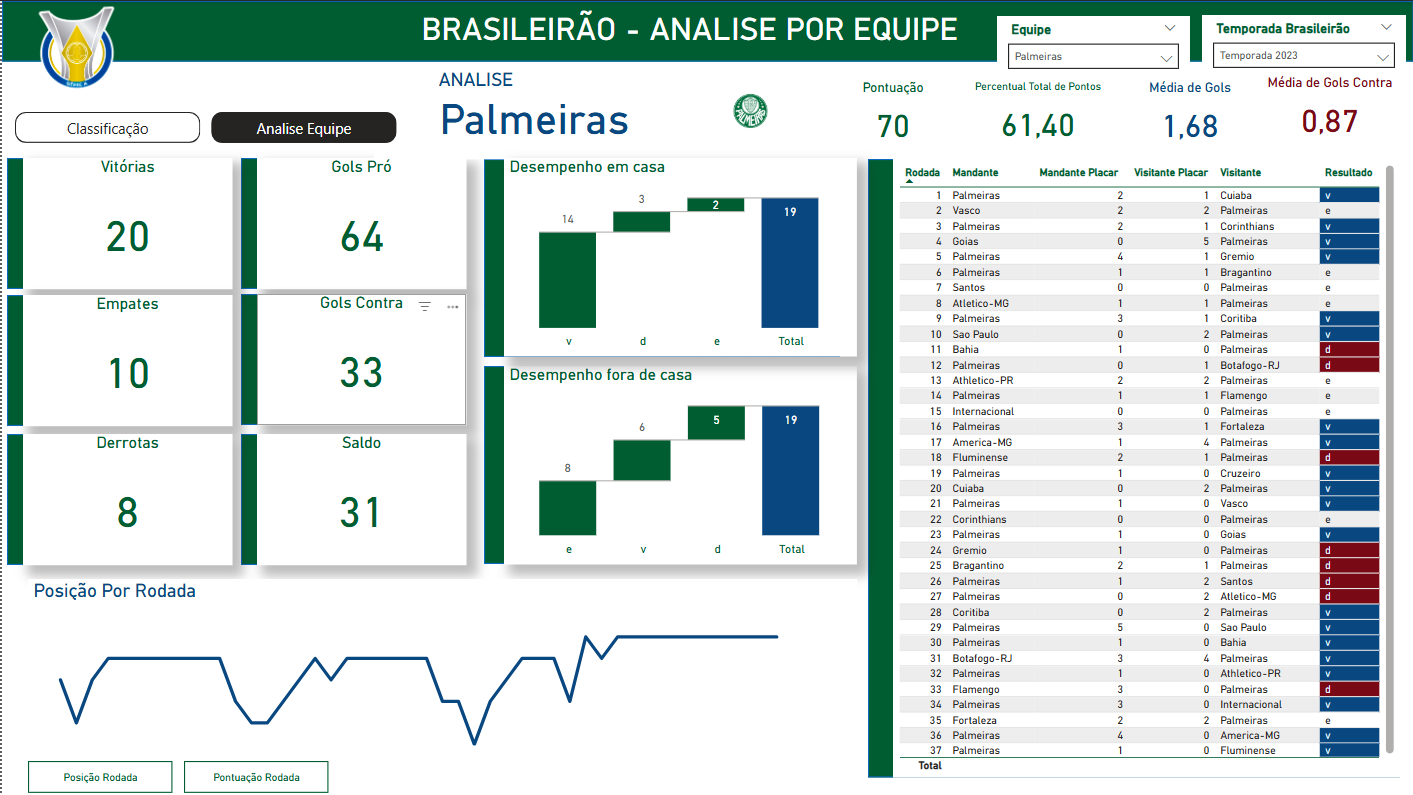

This screenshot's page, from the dashboard's own definition file:
{"tool":"powerbi","page":{"name":"Analise Equipe","canvas":[1280,720],"ordinal":1},"visuals":[{"type":"shape","box":[0,0,1280.4,55.3],"z":0},{"type":"image","box":[0,0,135.1,86.1],"z":1000},{"type":"shape","box":[4.5,142.5,204,118.8],"z":2000},{"type":"shape","box":[4.5,266.7,204,118.8],"z":3000},{"type":"shape","box":[4.5,392.7,204,118.8],"z":4000},{"type":"shape","box":[216.7,142.5,204,118.8],"z":5000},{"type":"shape","box":[216.7,265.8,204,118.8],"z":6000},{"type":"shape","box":[216.7,392.7,204,118.8],"z":7000},{"type":"card","title":"Gols Pró","fields":{"Values":["Medidas.GolsProEquipe"]},"box":[231.2,142.5,189.5,118.8],"z":8000},{"type":"card","title":"Gols Contra","fields":{"Values":["Medidas.GolsContraEquipe"]},"box":[231.2,265.8,189.5,118.8],"z":9000},{"type":"card","title":"Saldo","fields":{"Values":["Medidas.SaldoEquipe"]},"box":[231.2,392.7,189.5,118.8],"z":10000},{"type":"card","title":"Vitórias","fields":{"Values":["Medidas.VitoriasEquipe"]},"box":[19,142.5,189.5,118.8],"z":11000},{"type":"card","title":"Empates","fields":{"Values":["Medidas.EmpatesEquipe"]},"box":[19,266.7,189.5,118.8],"z":12000},{"type":"card","title":"Derrotas","fields":{"Values":["Medidas.DerrotasEquipe"]},"box":[19,392.7,189.5,118.8],"z":13000},{"type":"shape","box":[785.3,143.3,482.4,561.3],"z":14000},{"type":"tableEx","fields":{"Values":["PartidasEquipe.Rodada","NovaTabela.Mandante","Sum(NovaTabela.Mandante_Placar)","Sum(NovaTabela.Visitante_Placar)","NovaTabela.Visitante","NovaTabela.Resultado"]},"box":[808,143.3,459.7,561.3],"z":15000},{"type":"textbox","box":[375.4,3.6,526.9,51.7],"z":16000},{"type":"shape","box":[437.1,143.3,322.8,179.5],"z":17000},{"type":"shape","box":[437.1,331,322.8,179.5],"z":18000},{"type":"waterfallChart","title":"Desempenho fora de casa","fields":{"Category":["PartidasEquipe.Resultado"],"Y":["CountNonNull(PartidasEquipe.LocalJogo)"]},"box":[455.2,331,320.1,179.5],"z":19000},{"type":"card","title":"Pontuação","fields":{"Values":["Min(PartidasEquipe.Equipe)"]},"box":[337.5,62.5,291.3,80.8],"z":20000},{"type":"textbox","box":[390.4,55.8,93.3,30.8],"z":21000},{"type":"card","title":"Média de Gols Contra","fields":{"Values":["Medidas.MediaGolsContra"]},"box":[1140.8,67.1,127,67.1],"z":22000},{"type":"card","title":"Média de Gols","fields":{"Values":["Medidas.MediaGolsPartida"]},"box":[1013.8,71.6,127,67.1],"z":23000},{"type":"clusteredColumnChart","title":"Pontuação Por Rodada","fields":{"Category":["PartidasEquipe.Rodada"],"Y":["Medidas.PontuacaoRodada"]},"box":[19,524.1,756.3,156],"z":24000},{"type":"card","title":"Pontuação","fields":{"Values":["Medidas.PontuacaoEquipe"]},"box":[744.5,71.6,127,67.1],"z":25000},{"type":"shape","box":[23.6,689.2,131.5,29],"z":26000},{"type":"shape","box":[165,689.2,131.5,29],"z":27000},{"type":"slicer","fields":{"Values":["PartidasEquipe.Equipe"]},"box":[902.4,14,175,53.7],"z":29000},{"type":"card","title":"Percentual Total de Pontos","fields":{"Values":["Medidas.PercentualPontos"]},"box":[876,71.6,127,67.1],"z":30000},{"type":"tableEx","title":"Pontuação","fields":{"Values":["Equipes.Logo","PartidasEquipe.Equipe"]},"box":[601.2,55.3,143.3,109.7],"z":31000},{"type":"waterfallChart","title":"Desempenho em casa","fields":{"Category":["PartidasEquipe.Resultado"],"Y":["CountNonNull(PartidasEquipe.LocalJogo)"]},"box":[455.2,142.4,320.1,180.5],"z":32000},{"type":"slicer","fields":{"Values":["Calendario.Temporada Brasileirão"]},"box":[1087.8,12.8,185.4,54.9],"z":33000},{"type":"pageNavigator","box":[11.5,101,347.1,28.8],"z":34000}]}

Visuals, with their boxes in screenshot pixels (x1, y1, x2, y2), scaled from the page's 1280x720 canvas onto the 1413x795 screenshot:
shape: select_region(0, 0, 1412, 61)
image: select_region(0, 0, 149, 95)
shape: select_region(5, 157, 230, 289)
shape: select_region(5, 294, 230, 426)
shape: select_region(5, 434, 230, 565)
shape: select_region(239, 157, 464, 289)
shape: select_region(239, 293, 464, 425)
shape: select_region(239, 434, 464, 565)
"Gols Pró" card: select_region(255, 157, 464, 289)
"Gols Contra" card: select_region(255, 293, 464, 425)
"Saldo" card: select_region(255, 434, 464, 565)
"Vitórias" card: select_region(21, 157, 230, 289)
"Empates" card: select_region(21, 294, 230, 426)
"Derrotas" card: select_region(21, 434, 230, 565)
shape: select_region(867, 158, 1399, 778)
tableEx - PartidasEquipe.Rodada x NovaTabela.Mandante: select_region(892, 158, 1399, 778)
textbox: select_region(414, 4, 996, 61)
shape: select_region(483, 158, 839, 356)
shape: select_region(483, 365, 839, 564)
"Desempenho fora de casa" waterfallChart: select_region(502, 365, 856, 564)
"Pontuação" card: select_region(373, 69, 694, 158)
textbox: select_region(431, 62, 534, 96)
"Média de Gols Contra" card: select_region(1259, 74, 1400, 148)
"Média de Gols" card: select_region(1119, 79, 1259, 153)
"Pontuação Por Rodada" clusteredColumnChart: select_region(21, 579, 856, 751)
"Pontuação" card: select_region(822, 79, 962, 153)
shape: select_region(26, 761, 171, 793)
shape: select_region(182, 761, 327, 793)
slicer - PartidasEquipe.Equipe: select_region(996, 15, 1189, 75)
"Percentual Total de Pontos" card: select_region(967, 79, 1107, 153)
"Pontuação" tableEx: select_region(664, 61, 822, 182)
"Desempenho em casa" waterfallChart: select_region(502, 157, 856, 357)
slicer - Calendario.Temporada Brasileirão: select_region(1201, 14, 1405, 75)
pageNavigator: select_region(13, 112, 396, 143)
